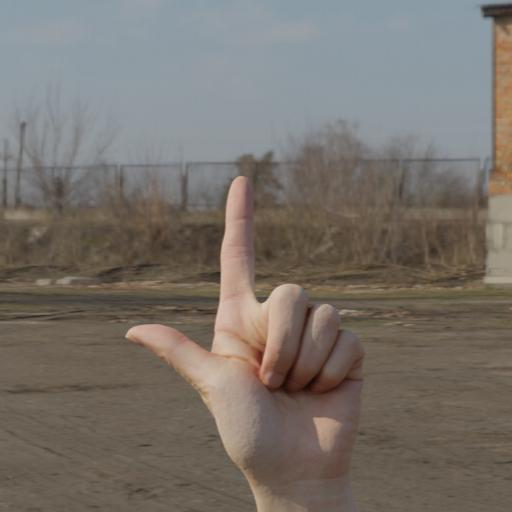L: (118, 168, 374, 494)
